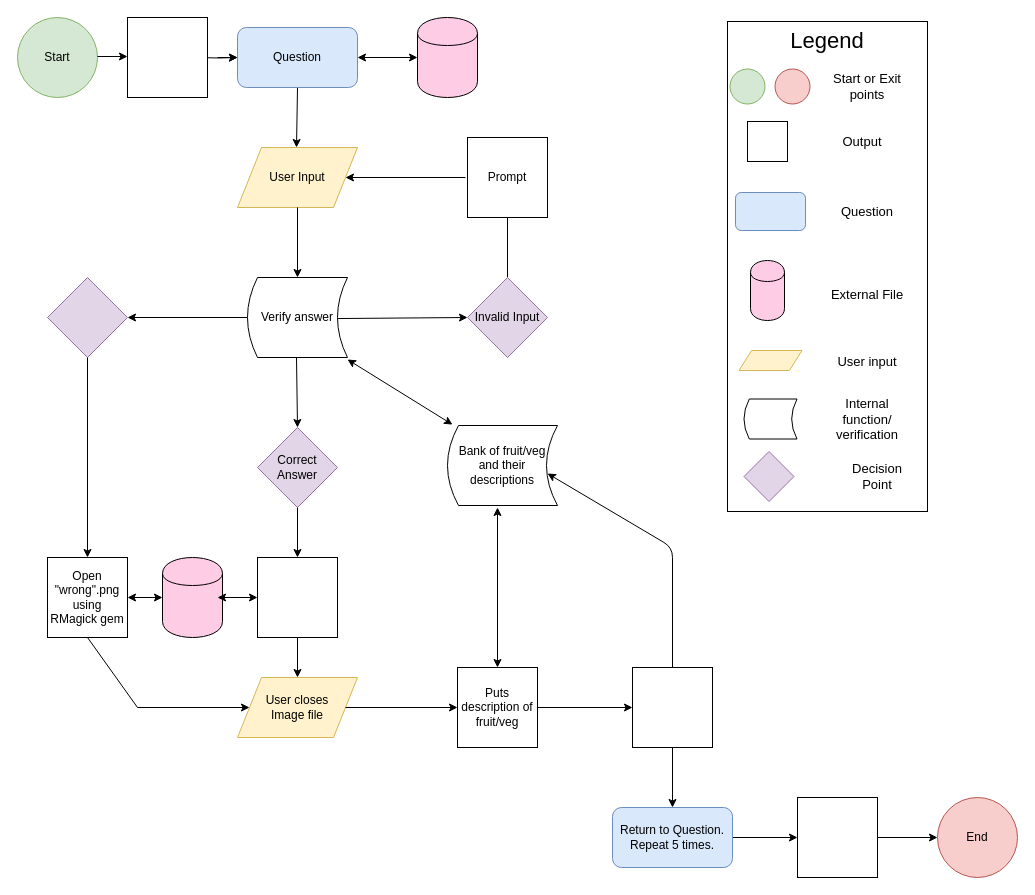
The diagram is 1035 pixels wide and 895 high, and some of its shapes have lost their labels. Here are the shapes that lost their labels. From the top down, the box of each, then its label:
(126, 16, 208, 98): Welcome message
(416, 16, 478, 98): Question Method
(46, 276, 128, 358): Incorrect Answer
(162, 556, 222, 638): Saved Images Folder
(256, 556, 338, 638): Open corresponding fruit.png file
(632, 666, 712, 748): Delete selected fruit/veg + description from bank
(796, 796, 878, 878): Thank user for playing
